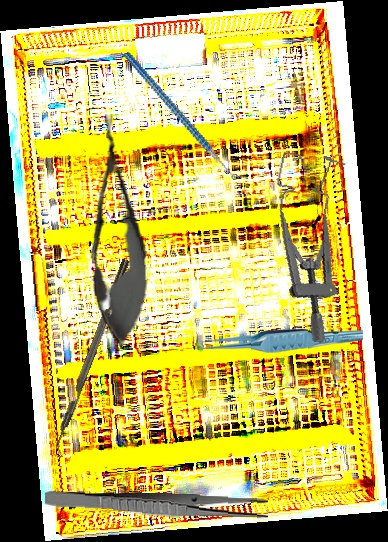Chopper: (122, 27, 249, 204), (48, 258, 140, 459)
Dressing Forceps: (44, 489, 269, 521)
Micro Scissor: (77, 112, 155, 349)
Speculum: (247, 147, 363, 345)
Tissue Forceps: (195, 325, 364, 355)
